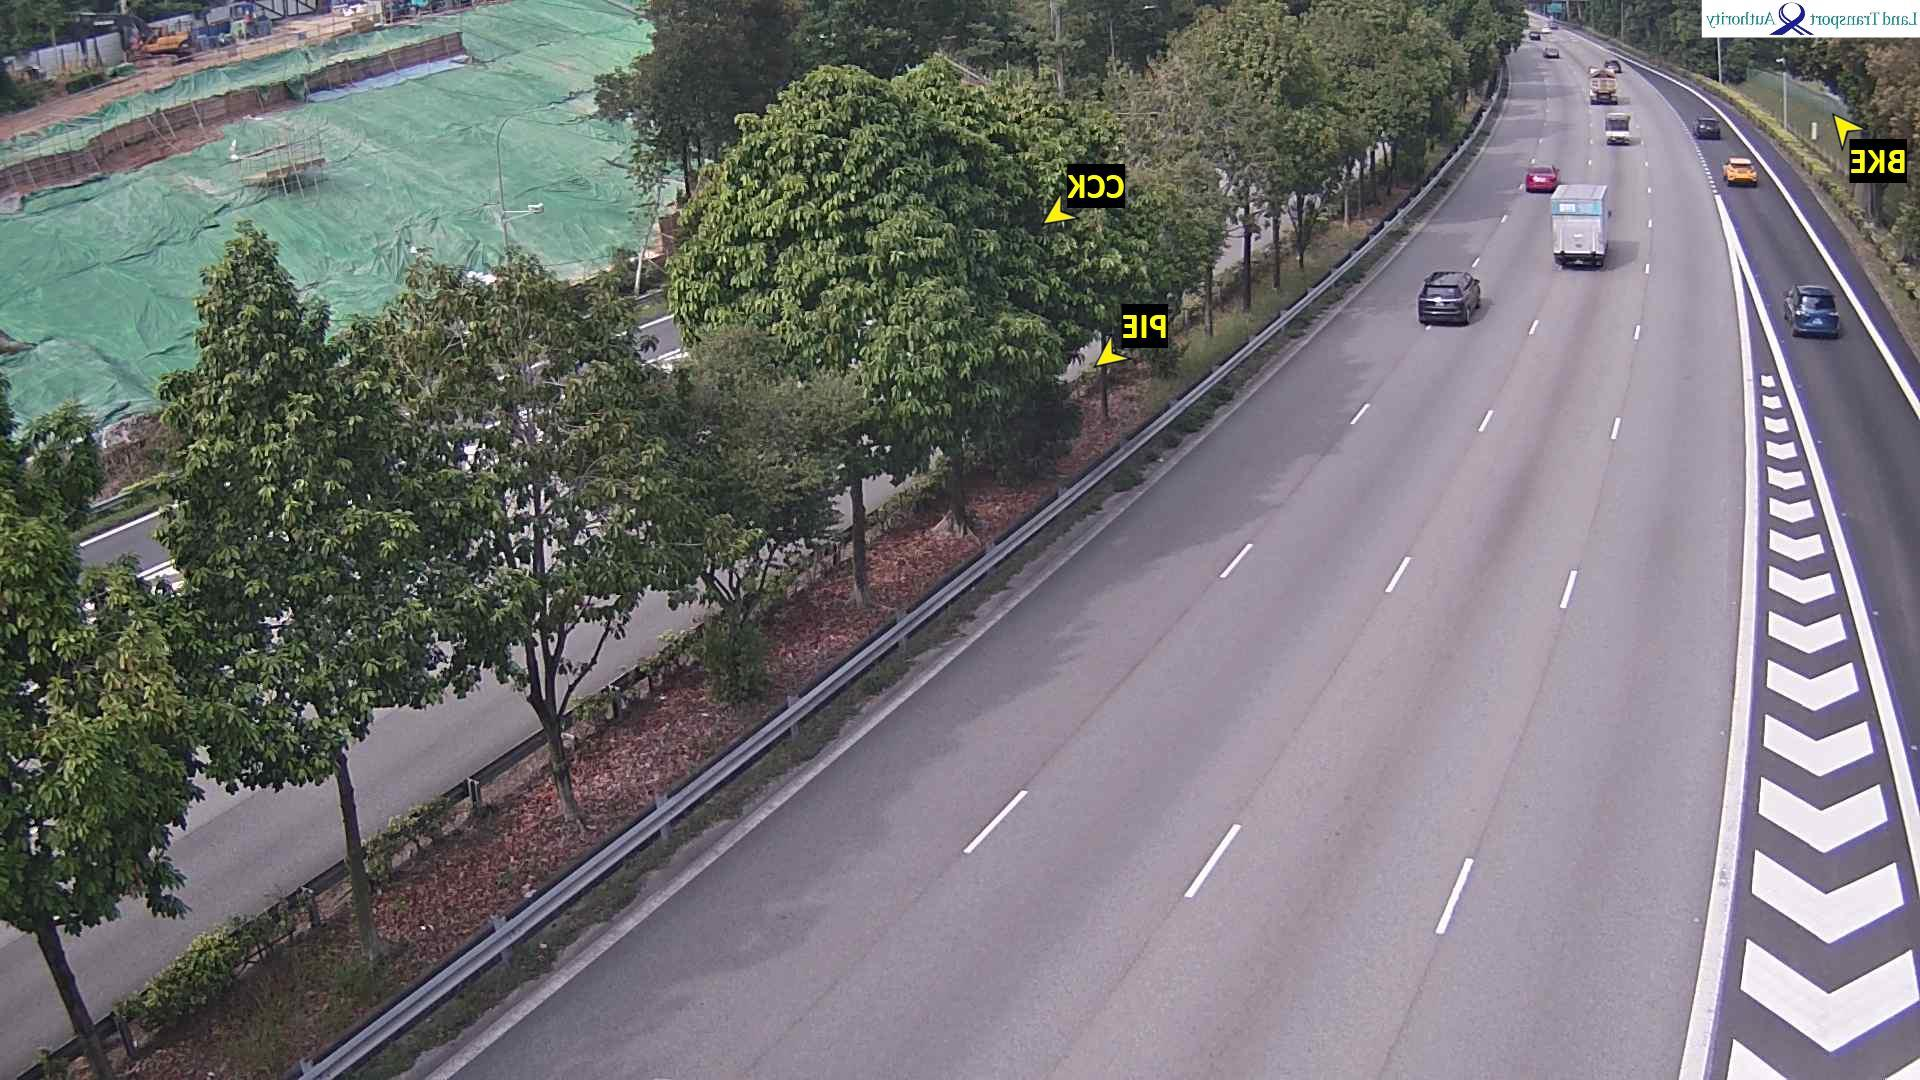cars: (1418, 269, 1484, 324), (1784, 282, 1841, 338), (1526, 164, 1561, 193), (1724, 156, 1759, 185), (1605, 111, 1633, 144), (1695, 115, 1722, 138), (335, 0, 368, 16), (1605, 57, 1623, 73), (1544, 42, 1561, 58), (1527, 28, 1543, 40), (1549, 16, 1560, 28)
trucks: (1551, 183, 1611, 268), (1590, 71, 1619, 104)
